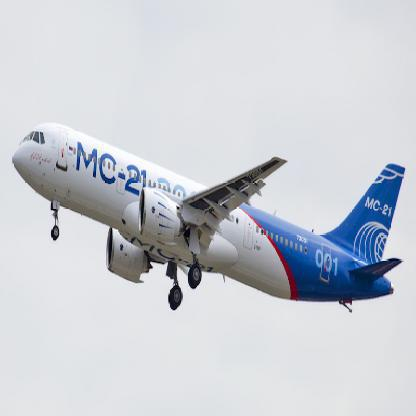CIV_Plane: (8, 112, 407, 314)
